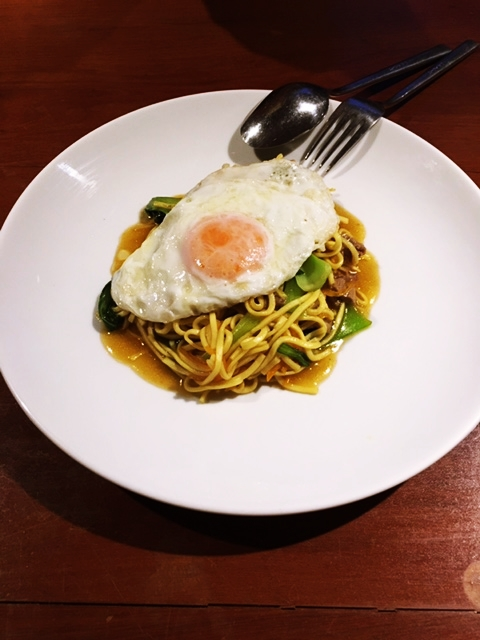fried egg: (105, 161, 323, 318)
plain spaghetti: (142, 309, 384, 407)
